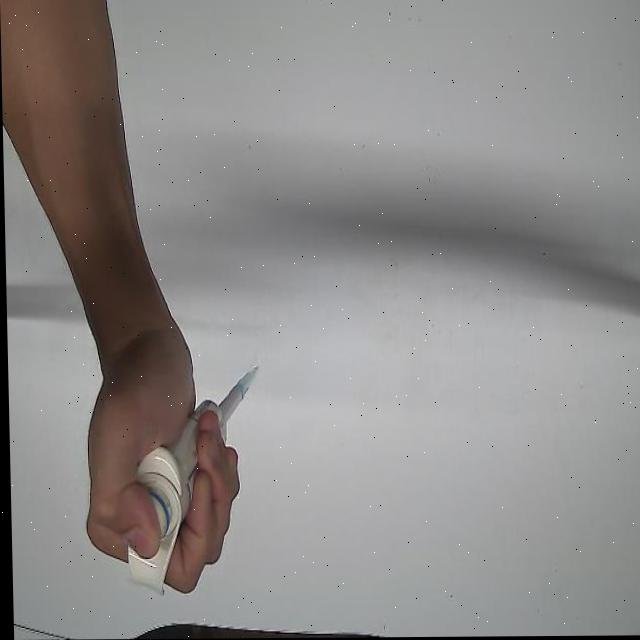Micropipette Tip 1000 uL: (234, 362, 259, 399)
Single Channel Pipettor: (121, 377, 250, 599)
